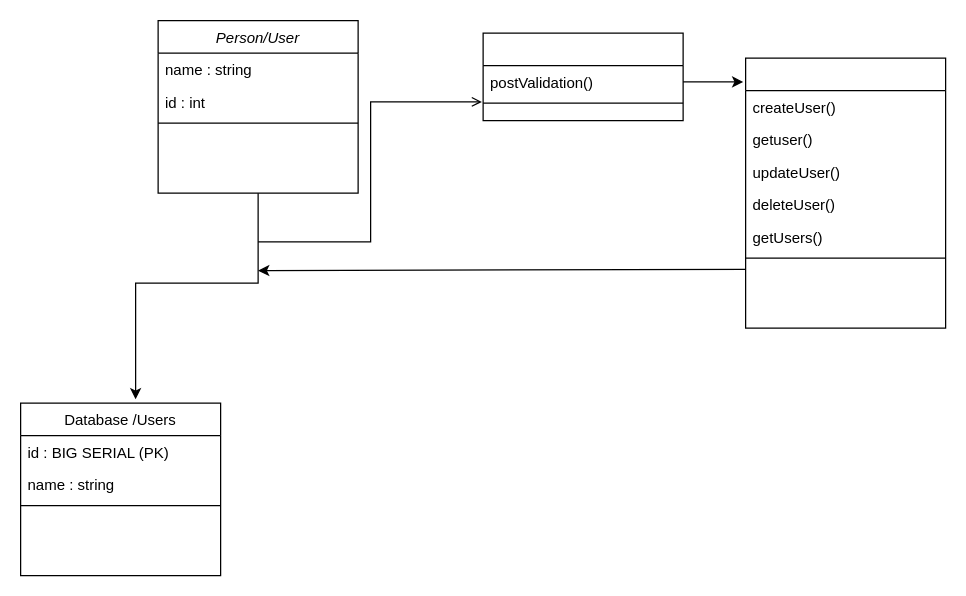
The diagram is 966 pixels wide and 596 high, and some of its shapes have lost their labels. The shapes that lost their labels are listed below. From the top down, each one's box as (x1, y1, x2, y2) in pixels, then its label:
(482, 32, 683, 121): Input validation
(744, 57, 946, 328): Controllers
